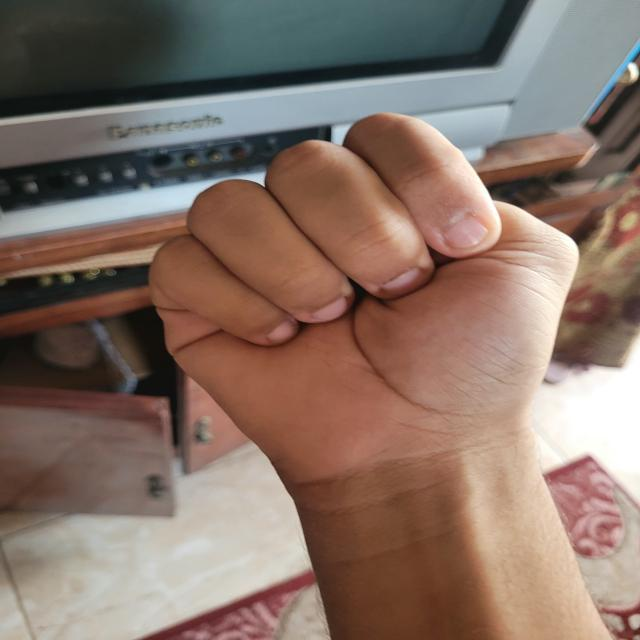Closed Hand: (145, 111, 582, 483)
